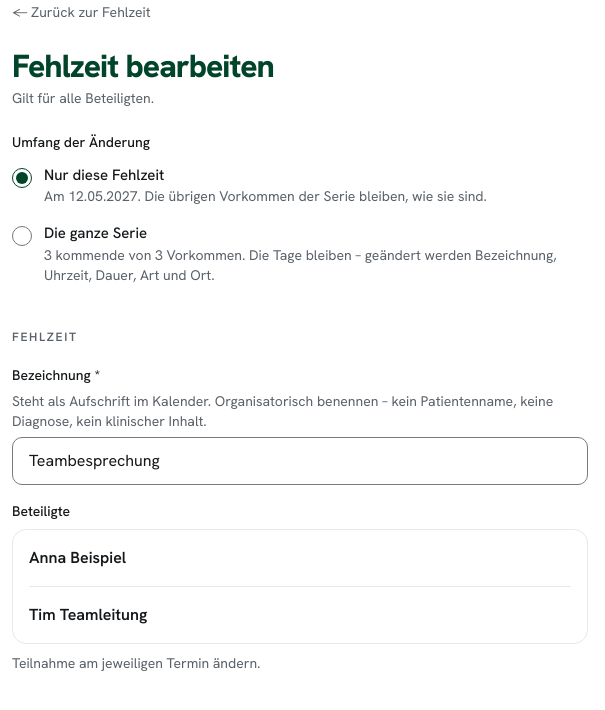
Test case: EditEventPage › stellt den Umfang vor die Felder und macht den Tag im Serienmodus zur Auskunft (TER-14)
Expected: the element "Umfang der Änderung" shows "3 kommende von 3 Vorkommen", [12, 132, 588, 289]
Step 1. Click the radio button labelled "Die ganze Serie" → (22, 236), box [12, 226, 32, 246]
(page scrolled)
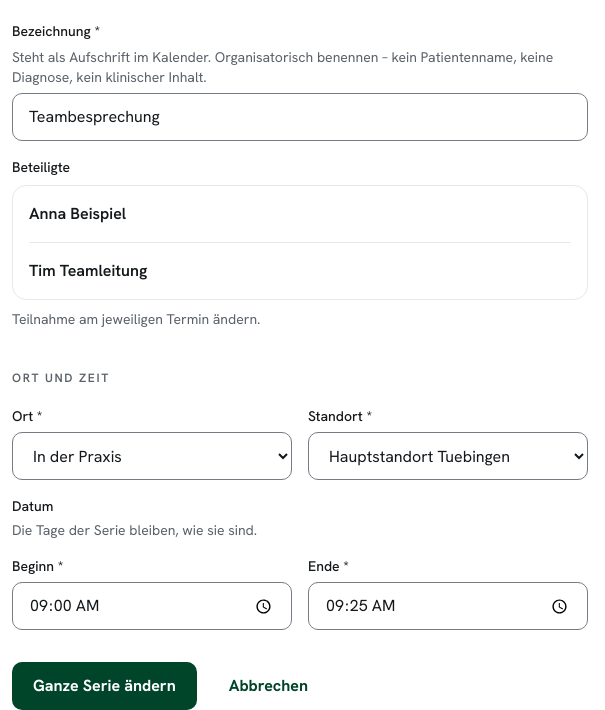
Now the text "Die Tage der Serie bleiben, wie sie sind." is shown, box [12, 521, 257, 539]
